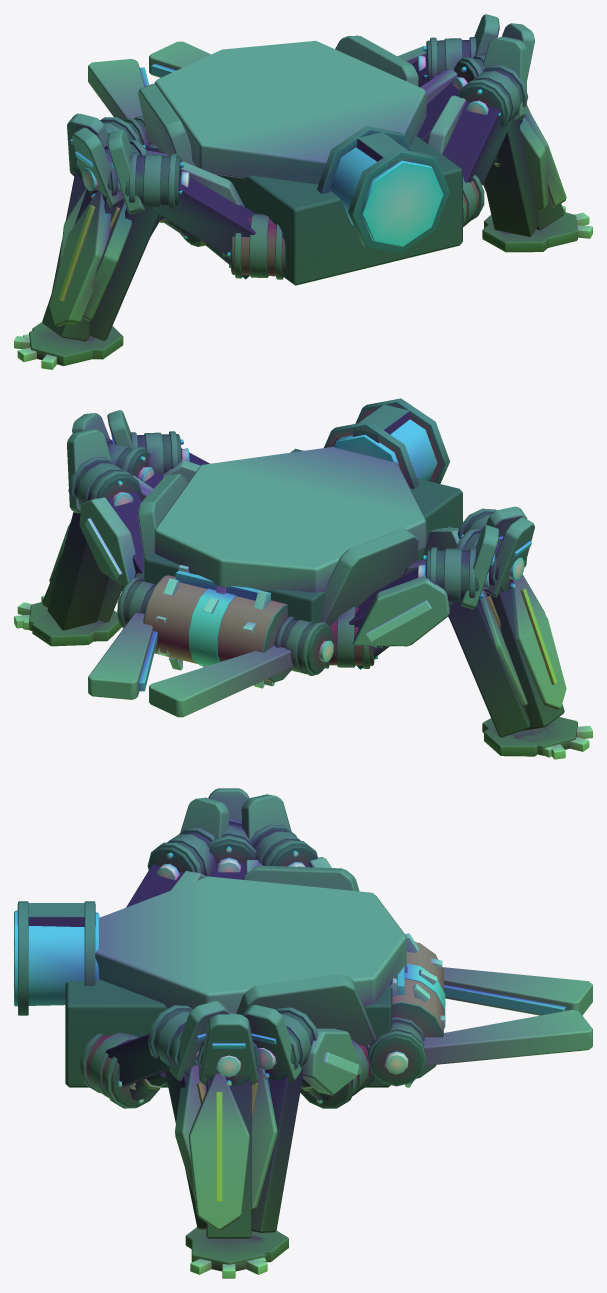
Rendered from ironjaw.glb.
3 views of the same model, one above another, from view 1: azimuth 30°, elevation 25°; view 2: azimuth 150°, elevation 25°; view 3: azimuth 270°, elevation 25° (orthographic). The views are drawn at different scales.
Parts seen in each view (by area): view 1: Body__armor, Body__dark, SacMain__emit_core, Hip_5_Knee__dark, Hip_4__dark, Body__armor_sub, Hip_4_Knee__dark, Hip_2_Knee__armor, Body__gunmetal, Hip_5__dark, Hip_5_Knee__gunmetal, Jaw_0__armor (+29 smaller); view 2: Body__armor, Body__armor_sub, Spinner_X_0__gunmetal, Hip_0_Knee__dark, Hip_1_Knee__dark, Jaw_0__armor, Body__dark, Hip_0__armor, Jaw_1__armor, Hip_2_Knee__armor, Body__gunmetal, Hip_2_Knee__dark (+34 smaller); view 3: Body__armor, Body__armor_sub, Body__dark, Hip_3_Knee__armor, Jaw_1__armor, SacMain__emit_core, Hip_1_Knee__dark, Jaw_0__armor, Hip_5__dark, Spinner_X_0__gunmetal, Hip_3_Knee__armor_sub, Hip_1__armor (+29 smaller).
Part boxes in pixels (<box>): Body__armor: <box>154,40,426,184</box>; Body__dark: <box>144,123,462,285</box>; SacMain__emit_core: <box>329,147,443,246</box>; Hip_5_Knee__dark: <box>459,69,538,236</box>; Hip_4__dark: <box>151,172,285,279</box>; Body__armor_sub: <box>138,35,418,166</box>; Hip_4_Knee__dark: <box>89,155,181,340</box>; Hip_2_Knee__armor: <box>49,190,111,326</box>; Body__gunmetal: <box>317,126,449,253</box>; Hip_5__dark: <box>442,102,511,217</box>; Hip_5_Knee__gunmetal: <box>458,64,548,252</box>; Jaw_0__armor: <box>88,59,144,120</box>; Body__armor: <box>154,446,426,592</box>; Body__armor_sub: <box>138,473,418,626</box>; Spinner_X_0__gunmetal: <box>143,575,290,682</box>; Hip_0_Knee__dark: <box>426,550,530,737</box>; Hip_1_Knee__dark: <box>47,462,140,630</box>; Jaw_0__armor: <box>149,645,292,717</box>; Body__dark: <box>144,448,462,674</box>; Hip_0__armor: <box>352,575,449,646</box>; Jaw_1__armor: <box>88,612,153,699</box>; Hip_2_Knee__armor: <box>511,578,566,709</box>; Body__gunmetal: <box>324,398,449,488</box>; Hip_2_Knee__dark: <box>456,532,564,730</box>; Body__armor: <box>95,876,406,1013</box>; Body__armor_sub: <box>236,865,376,1046</box>; Body__dark: <box>65,917,392,1087</box>; Hip_3_Knee__armor: <box>188,1073,249,1229</box>; Jaw_1__armor: <box>423,1009,592,1065</box>; SacMain__emit_core: <box>14,910,99,1006</box>; Hip_1_Knee__dark: <box>251,1012,313,1232</box>; Jaw_0__armor: <box>442,967,592,1015</box>; Hip_5__dark: <box>86,1034,168,1106</box>; Spinner_X_0__gunmetal: <box>392,942,443,1078</box>; Hip_3_Knee__armor_sub: <box>199,1014,258,1085</box>; Hip_1__armor: <box>302,1028,361,1095</box>.
Bounding box in the file's own units: 3.18 × 1.14 × 2.62.
